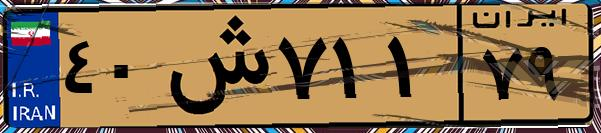0: (110, 28, 158, 98)
1: (385, 28, 445, 110), (330, 28, 385, 110)
4: (57, 26, 110, 100)
7: (270, 28, 330, 110), (475, 38, 525, 113)
9: (525, 38, 570, 115)
ش: (158, 12, 270, 120)
